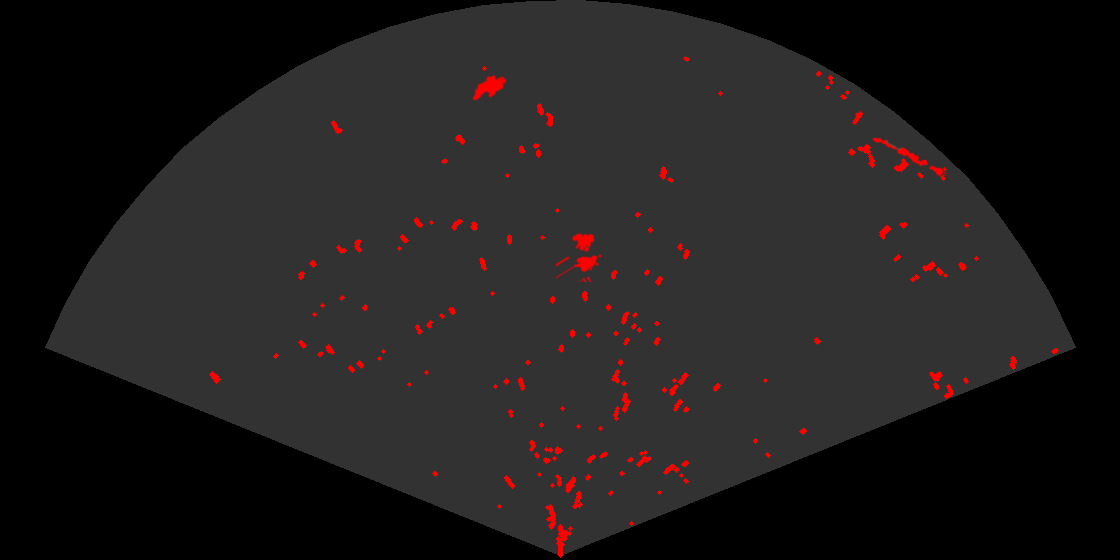AUV: (471, 74, 508, 102)
cage: (556, 232, 604, 282)
chain: (871, 136, 952, 180)
